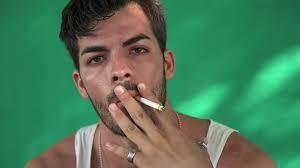sigaretta: (134, 94, 164, 110)
